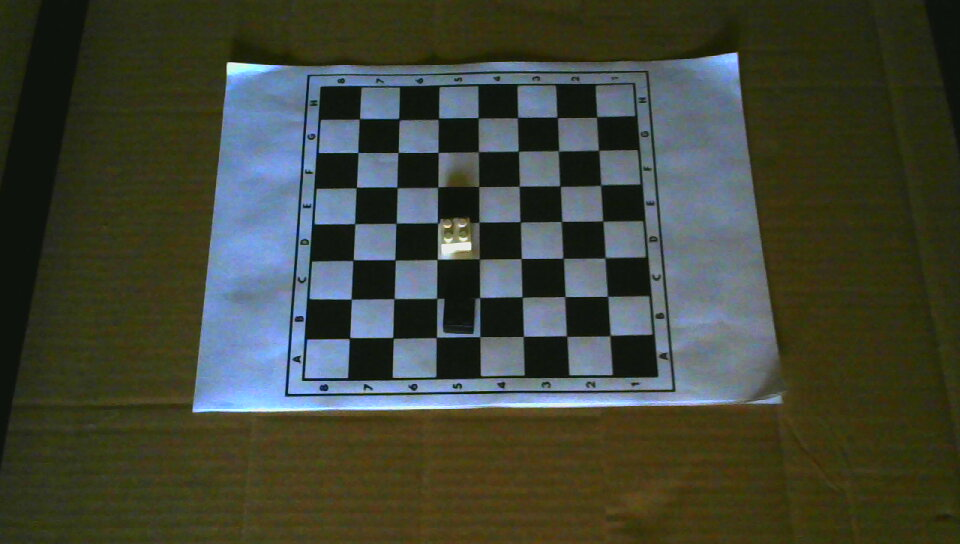bp: (442, 293, 476, 334)
wp: (438, 216, 472, 253)
